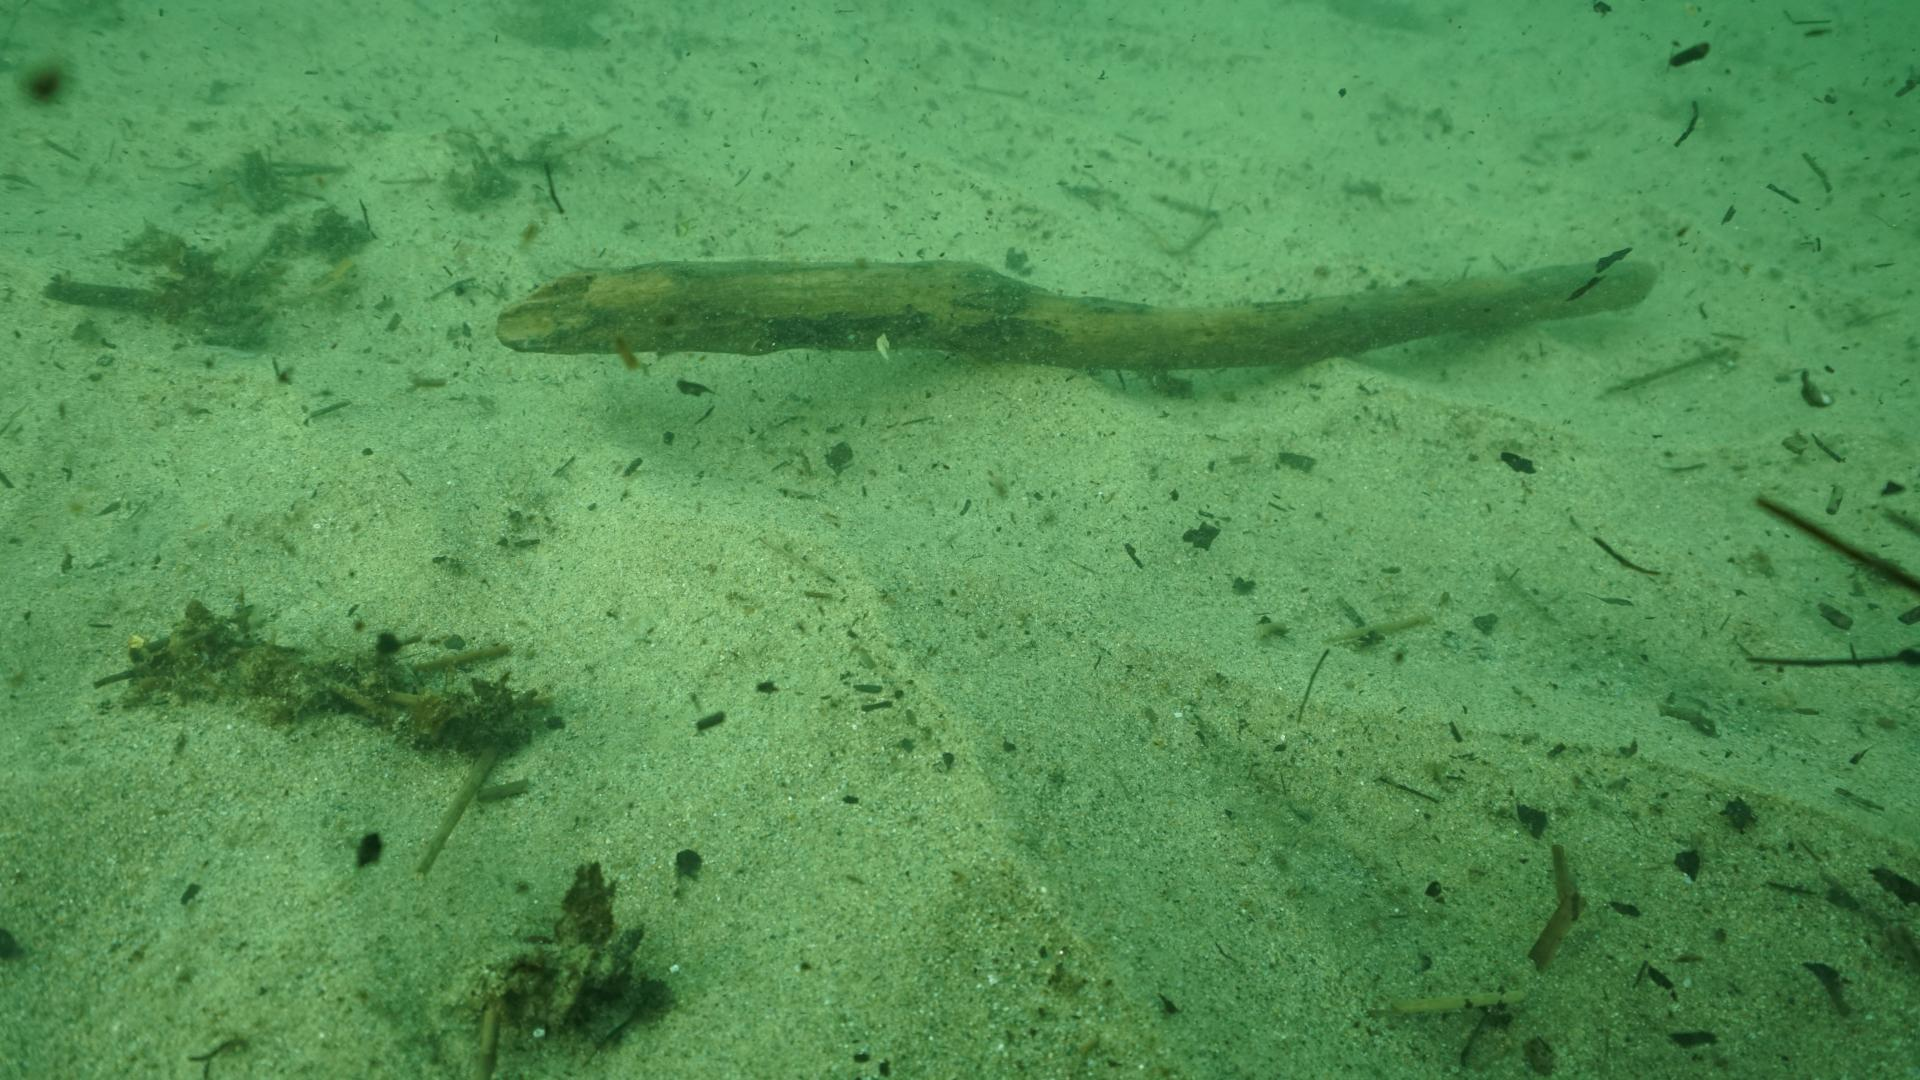wood: (489, 258, 1650, 373)
